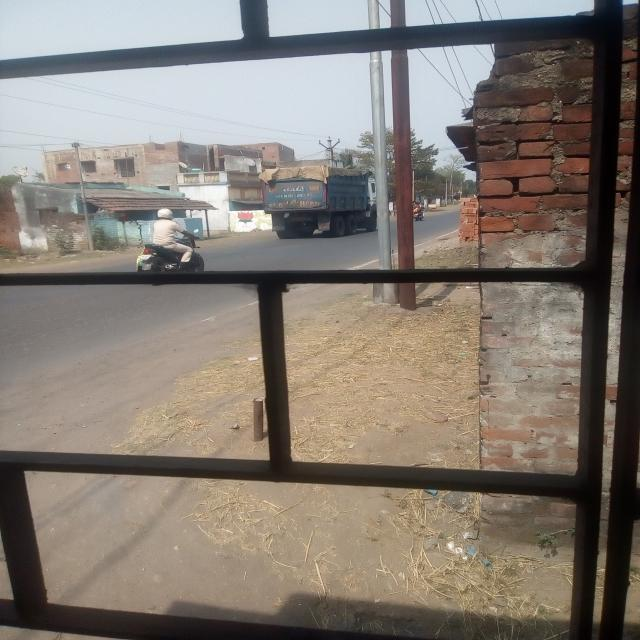truck_back: (256, 162, 388, 246)
two_wheeler_back: (124, 226, 213, 282)
